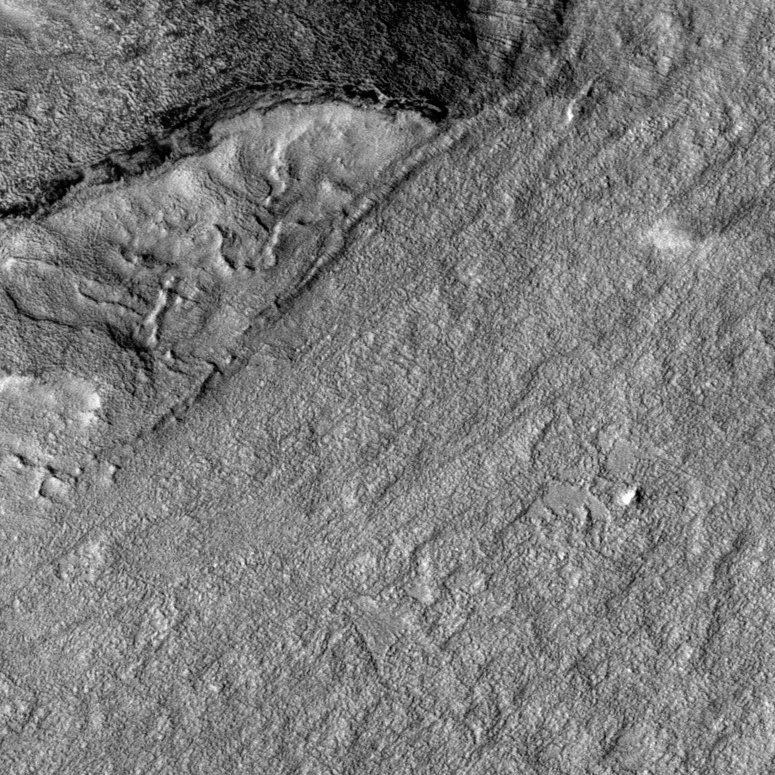dust_devil: (640, 184, 768, 253)
